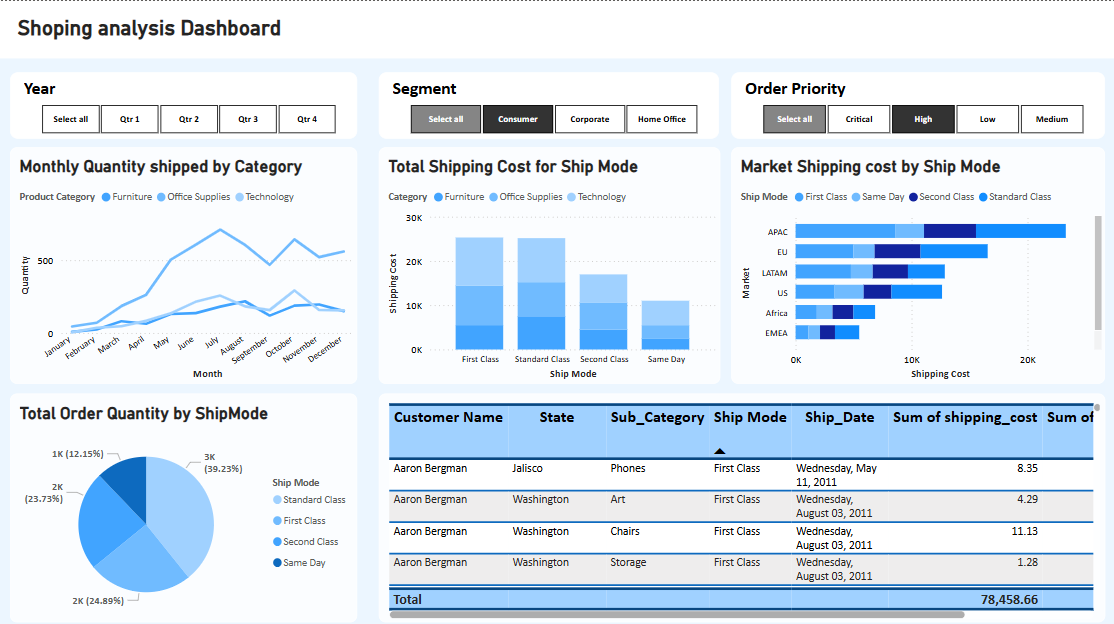

Layout of this report page (visuals, bound fields, positions):
{"tool":"powerbi","page":{"name":"ShippingDashboard","canvas":[1280,720],"ordinal":2},"visuals":[{"type":"textbox","title":"Shipping Analysis Dashboard","box":[0,0,1280,65.7],"z":1000},{"type":"slicer","title":"Year","fields":{"Values":["SuperStoreOrders2.order_date.Variation.Date Hierarchy.Quarter"]},"box":[11.4,81.4,397.1,75.7],"z":2000},{"type":"slicer","title":"Segment","fields":{"Values":["SuperStoreOrders2.segment"]},"box":[432.9,81.4,388.6,75.7],"z":3000},{"type":"barChart","title":"Market Shipping cost by Ship Mode","fields":{"Y":["SuperStoreOrders2.shipping_cost"],"Series":["SuperStoreOrders2.ship_mode"],"Category":["SuperStoreOrders2.Market"]},"box":[835.7,167.1,427.1,270],"z":4000},{"type":"columnChart","title":"Total Shipping Cost for Ship Mode ","fields":{"Y":["SuperStoreOrders2.shipping_cost"],"Series":["SuperStoreOrders2.Category"],"Category":["SuperStoreOrders2.ship_mode"]},"box":[432.9,167.1,390,270],"z":5000},{"type":"lineChart","title":"Monthly Quantity shipped by Category","fields":{"Category":["SuperStoreOrders2.Ship_Date.Variation.Date Hierarchy.Month"],"Series":["SuperStoreOrders2.Category"],"Y":["SuperStoreOrders2.quantity"]},"box":[11.4,167.1,397.1,270],"z":6000},{"type":"pieChart","title":"Total Order Quantity by ShipMode","fields":{"Y":["SuperStoreOrders2.quantity"],"Category":["SuperStoreOrders2.ship_mode"]},"box":[11.4,448.6,397.1,261.4],"z":7000},{"type":"slicer","title":"Order Priority","fields":{"Values":["SuperStoreOrders2.order_priority"]},"box":[835.7,81.4,427.1,75.7],"z":8000},{"type":"tableEx","fields":{"Values":["SuperStoreOrders2.customer_name","SuperStoreOrders2.State","SuperStoreOrders2.Sub_Category","SuperStoreOrders2.ship_mode","SuperStoreOrders2.ship_date","SuperStoreOrders2.shipping_cost","SuperStoreOrders2.quantity","SuperStoreOrders2.sales"]},"box":[432.9,448.6,830,261.4],"z":9000}]}

Visuals, with their boxes in screenshot pixels (x1, y1, x2, y2), scaled from the page's 1280x720 canvas onto the 1114x624 screenshot:
"Shipping Analysis Dashboard" textbox: left=0, top=0, right=1113, bottom=57
"Year" slicer: left=10, top=71, right=356, bottom=136
"Segment" slicer: left=377, top=71, right=715, bottom=136
"Market Shipping cost by Ship Mode" barChart: left=727, top=145, right=1099, bottom=379
"Total Shipping Cost for Ship Mode " columnChart: left=377, top=145, right=716, bottom=379
"Monthly Quantity shipped by Category" lineChart: left=10, top=145, right=356, bottom=379
"Total Order Quantity by ShipMode" pieChart: left=10, top=389, right=356, bottom=615
"Order Priority" slicer: left=727, top=71, right=1099, bottom=136
tableEx - SuperStoreOrders2.customer_name x SuperStoreOrders2.State: left=377, top=389, right=1099, bottom=615
